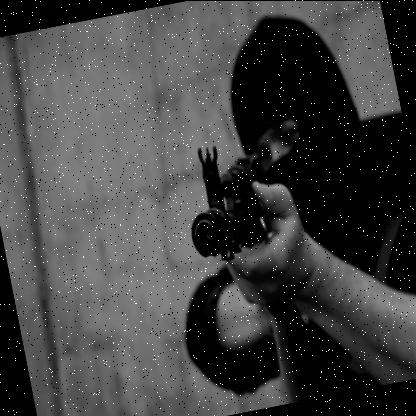rifle: (167, 121, 303, 307)
